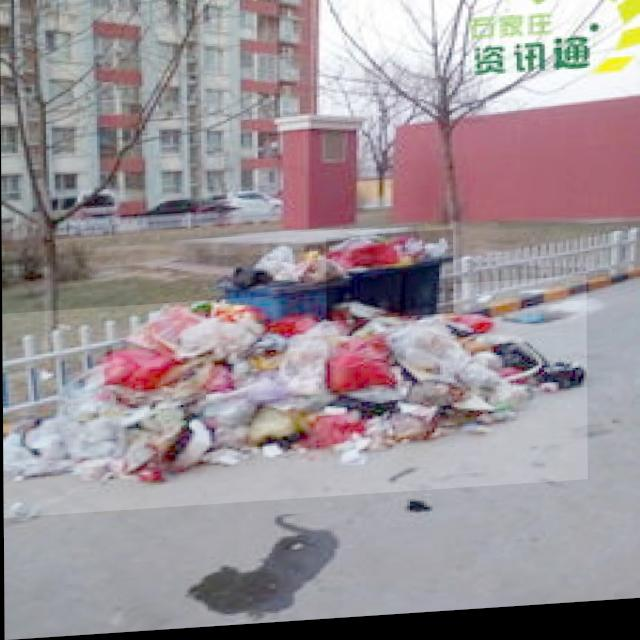garbage: (2, 284, 587, 518)
overflow: (326, 235, 453, 326)
